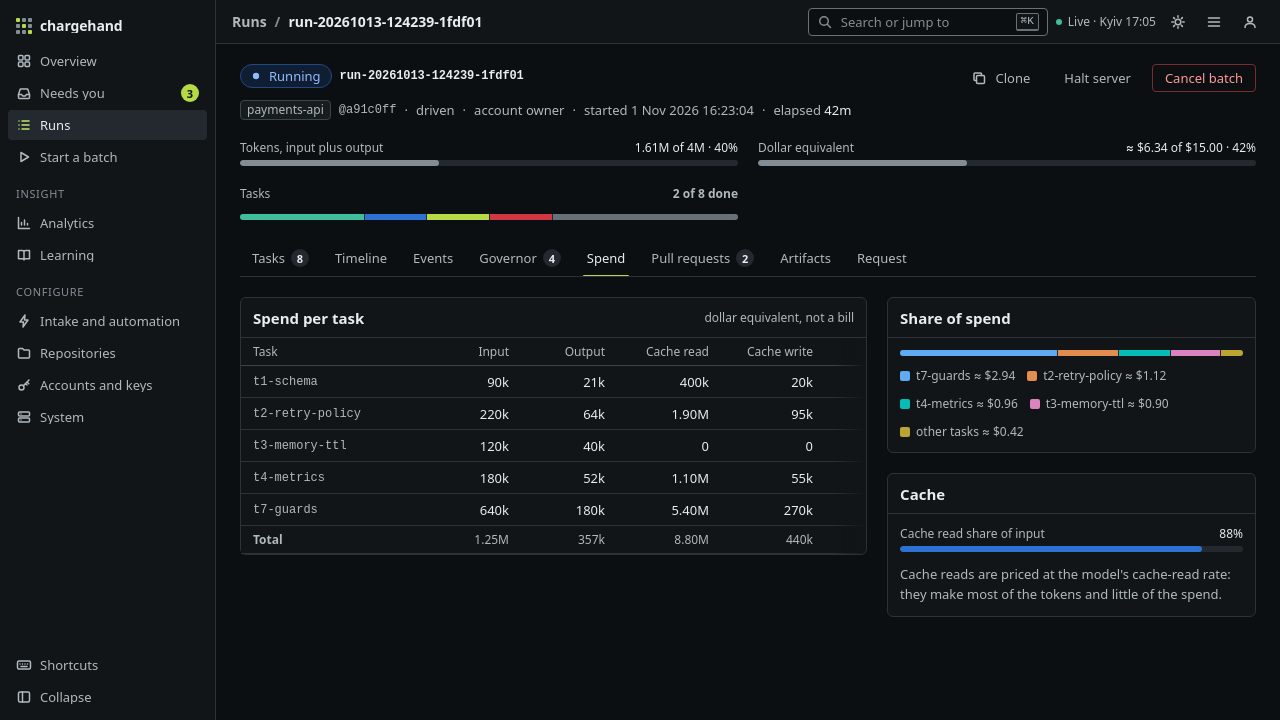
Test case: the batch header › opens the tab named in the address, and writes the tab you pick into it
Expected: the table named "Spend per task" is shown, left=241, top=338, right=866, bottom=554
Press the mouse on the tab "Request" at [882, 258], box left=845, top=240, right=919, bottom=276
(page scrolled)
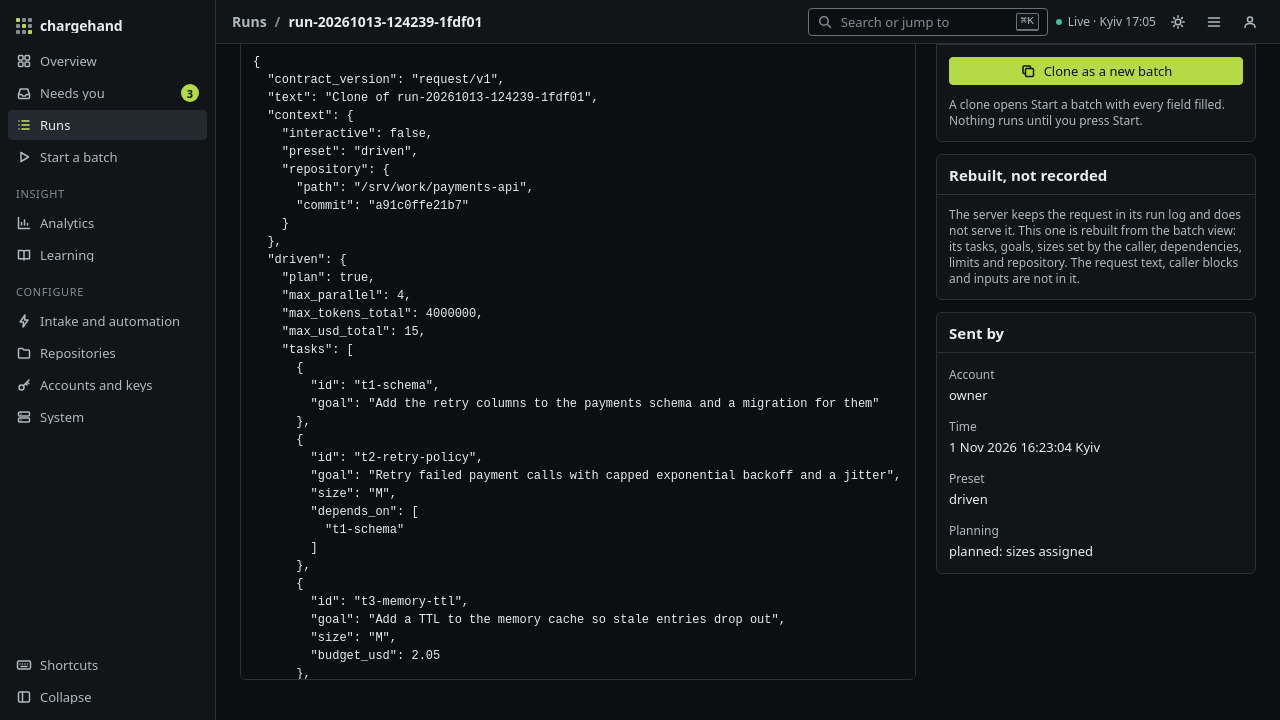
Result: the element named "The request as JSON" is shown at left=240, top=40, right=916, bottom=680
